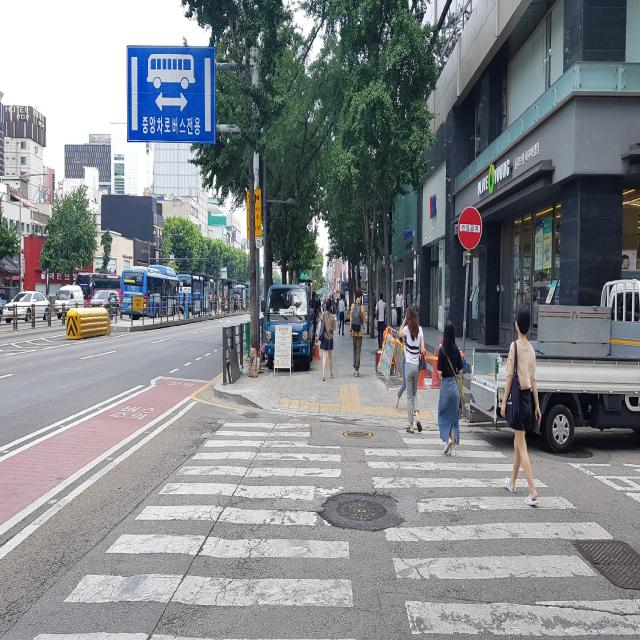횡단보도: (30, 413, 640, 640)
